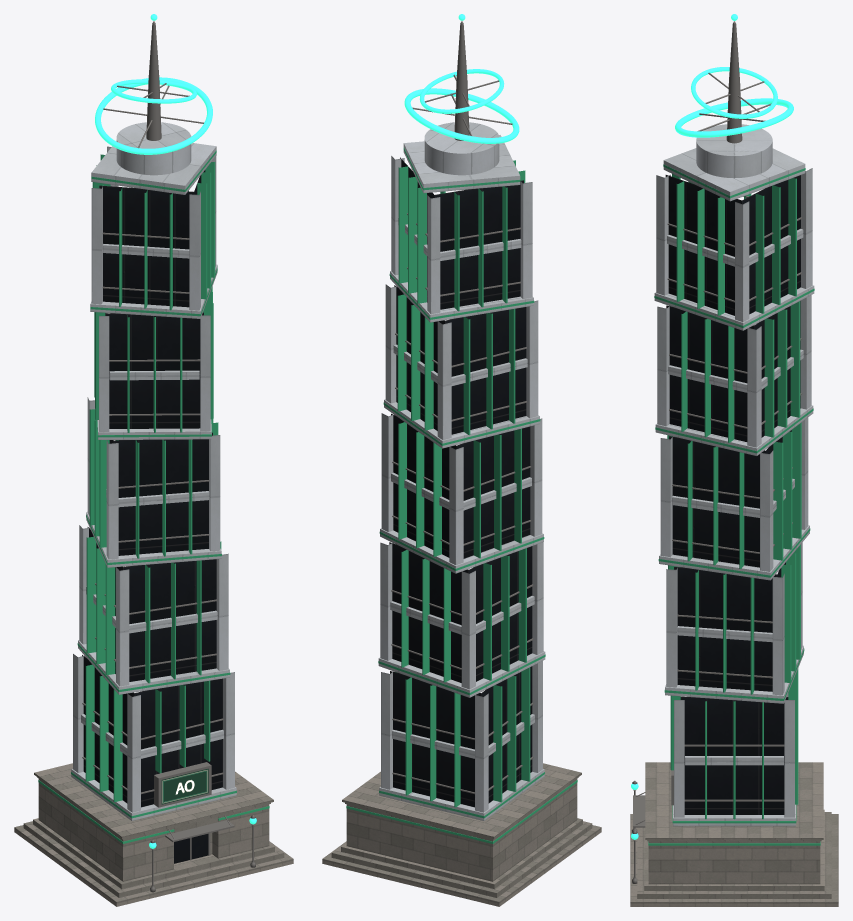
File: autonomous-organizations.glb
3 renders of one model, left to right at view 1: azimuth 30°, elevation 25°; view 2: azimuth 150°, elevation 25°; view 3: azimuth 270°, elevation 25°, orthographic.
Visible parts, largest first — view 1: Landmark · Autonomous Organizations; view 2: Landmark · Autonomous Organizations; view 3: Landmark · Autonomous Organizations.
Part boxes in pixels (x1,y1,x2,y2): Landmark · Autonomous Organizations: [14, 14, 293, 906]; Landmark · Autonomous Organizations: [322, 14, 601, 906]; Landmark · Autonomous Organizations: [630, 14, 838, 906].
Bounding box in the file's own units: 12 × 54 × 12.
Materials: 7 (4 with a texture image).
